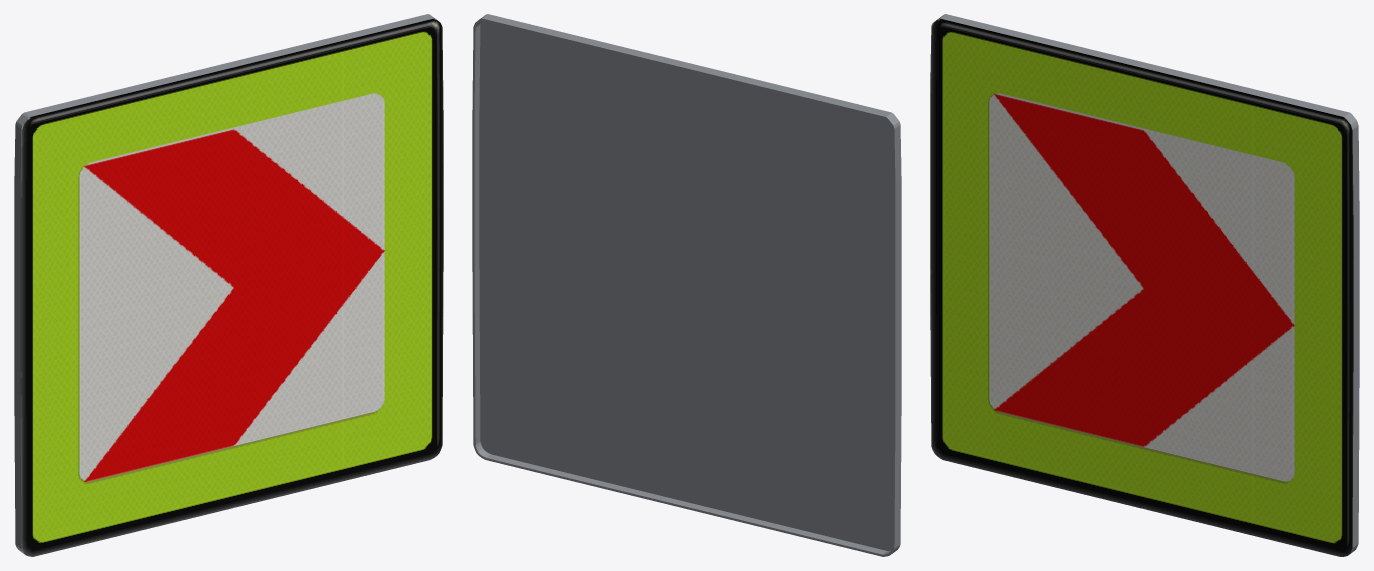
3 renders of one model, left to right at view 1: azimuth 30°, elevation 25°; view 2: azimuth 150°, elevation 25°; view 3: azimuth 330°, elevation 25°, orthographic.
Parts seen in each view (by area): view 1: cat_76ffeac4998c6cce; view 2: cat_76ffeac4998c6cce; view 3: cat_76ffeac4998c6cce.
Boxes of the visible parts, box(x1,y1,x2,y2) form: cat_76ffeac4998c6cce: box(14, 14, 443, 556); cat_76ffeac4998c6cce: box(472, 14, 901, 556); cat_76ffeac4998c6cce: box(930, 14, 1359, 556).
Size of the model in its own units: 0.6 by 0.015 by 0.5973.
2 materials, 1 textured.
